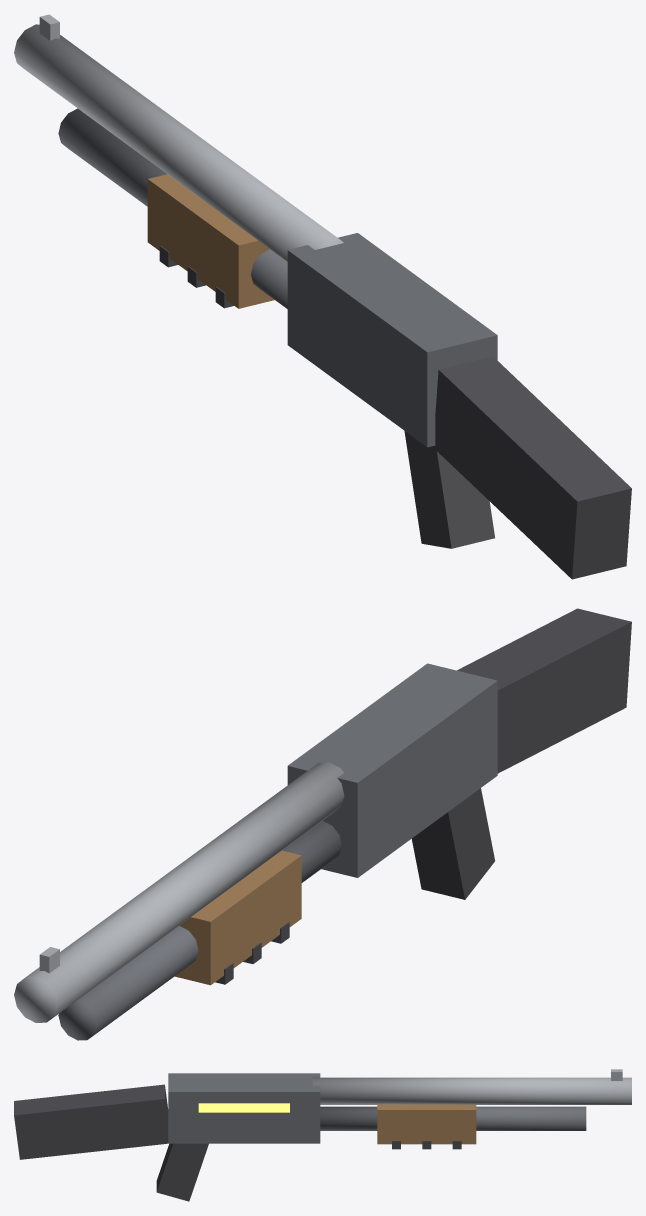
File: shotgun_held.gltf
3 views of the same model, one above another, from view 1: azimuth 30°, elevation 25°; view 2: azimuth 150°, elevation 25°; view 3: azimuth 270°, elevation 25° (orthographic). The views are drawn at different scales.
Parts seen in each view (by area): view 1: shotgun_held; view 2: shotgun_held; view 3: shotgun_held.
Part boxes in pixels (x1,y1,x2,y2): shotgun_held: [14, 14, 631, 579]; shotgun_held: [14, 608, 631, 1040]; shotgun_held: [14, 1069, 631, 1201].
Size of the model in its own units: 0.061 by 0.182 by 0.8132.
